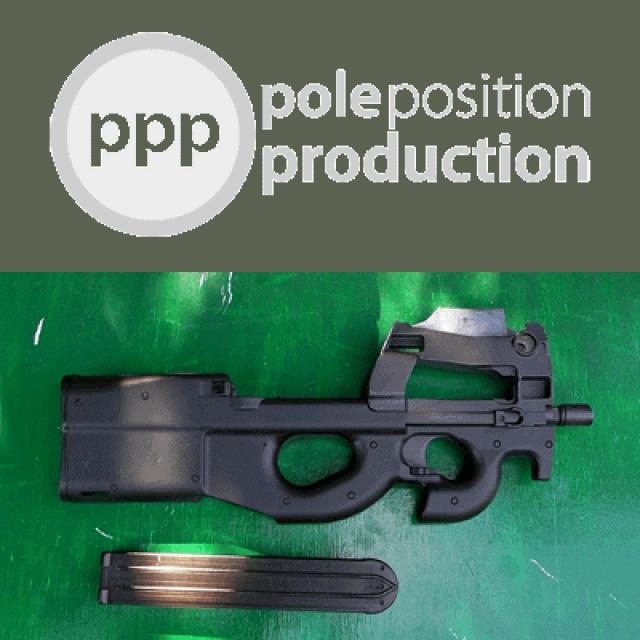SMG: (56, 307, 595, 528)
